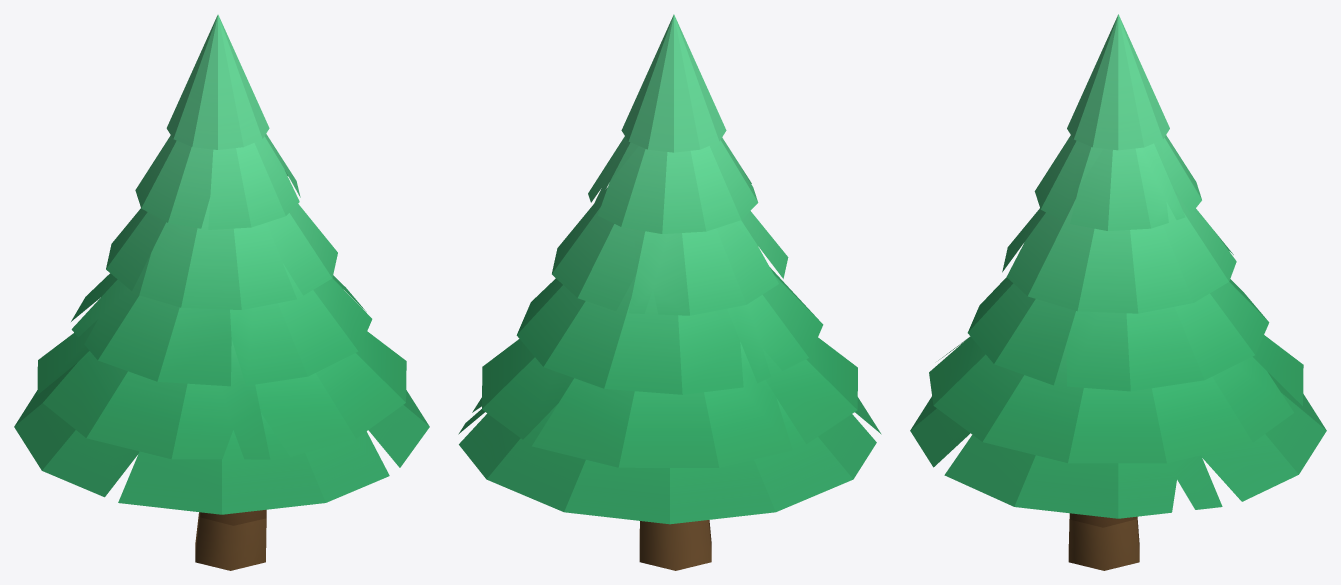
Rendered from tree1.gltf.
3 renders of one model, left to right at view 1: azimuth 30°, elevation 25°; view 2: azimuth 150°, elevation 25°; view 3: azimuth 270°, elevation 25°, orthographic.
Parts seen in each view (by area): view 1: tree.009; view 2: tree.009; view 3: tree.009.
Boxes of the visible parts, x1,y1,x2,y2 form: tree.009: [14, 14, 429, 570]; tree.009: [458, 14, 881, 570]; tree.009: [910, 14, 1326, 570].
Bounding box in the file's own units: 1.05 × 1.49 × 1.05.
Materials: 1 (1 with a texture image).
